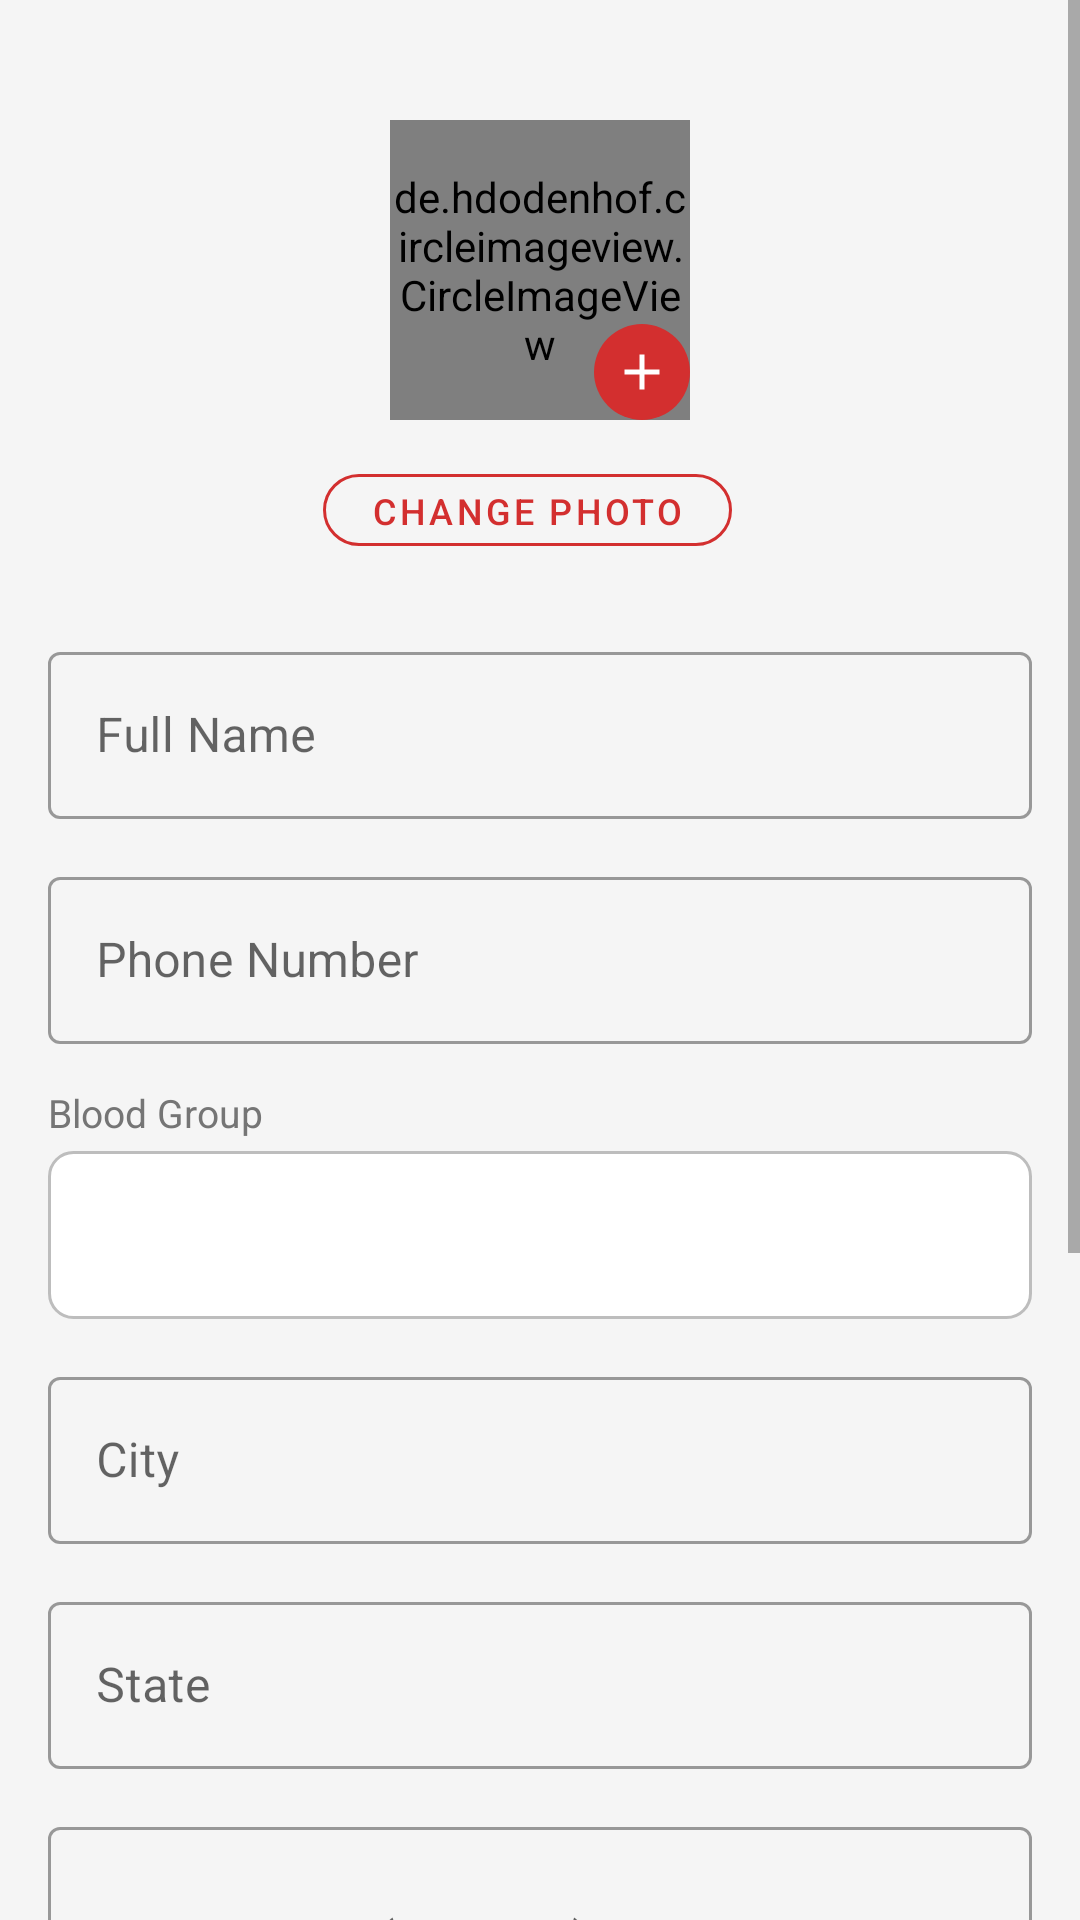

Where to tap for icons on this 1080×1920 app screen, as point (x, y):
add: point (642, 372)
